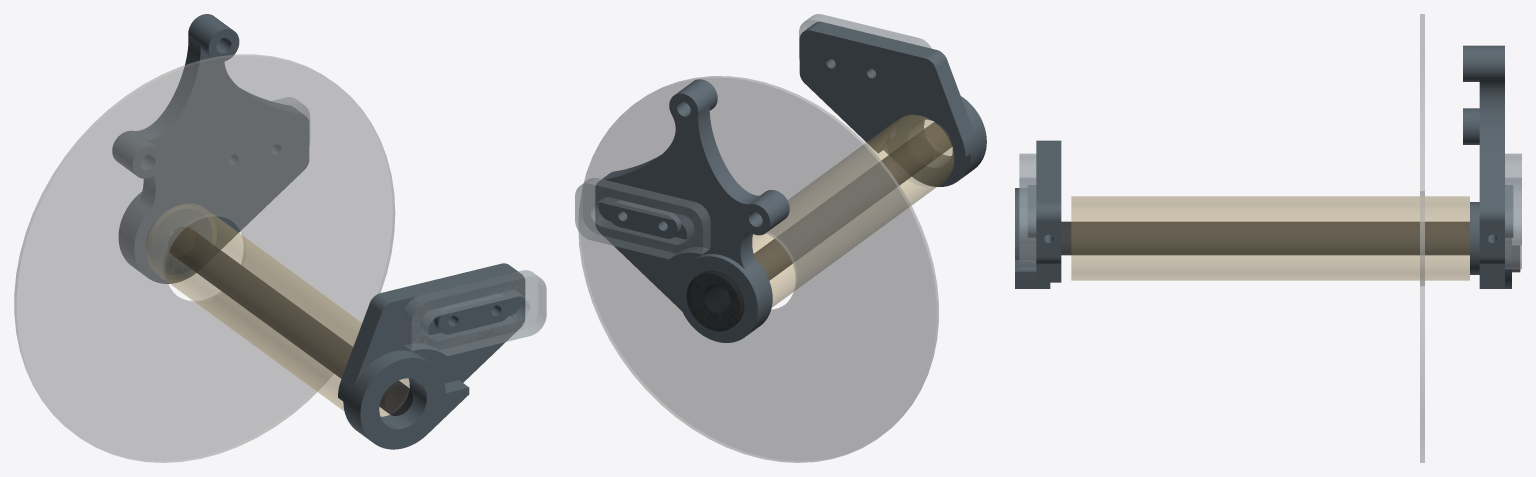
The model's file is assembly.glb.
3 views of the same model, side by side, from view 1: azimuth 30°, elevation 25°; view 2: azimuth 150°, elevation 25°; view 3: azimuth 270°, elevation 25° (orthographic). The views are drawn at different scales.
Parts seen in each view (by area): view 1: rotor, dropout_left, dropout_right, hub, thru_axle, frame_plate_right; view 2: rotor, dropout_left, dropout_right, hub, thru_axle, frame_plate_left, frame_plate_right; view 3: hub, thru_axle, dropout_left, dropout_right, rotor, frame_plate_right, frame_plate_left.
Boxes of the visible parts, x1=… form: rotor: x1=14, y1=54, x2=395, y2=462; dropout_left: x1=112, y1=14, x2=309, y2=283; dropout_right: x1=338, y1=263, x2=525, y2=449; hub: x1=146, y1=204, x2=409, y2=416; thru_axle: x1=168, y1=226, x2=412, y2=415; frame_plate_right: x1=403, y1=270, x2=546, y2=355; rotor: x1=578, y1=76, x2=938, y2=462; dropout_left: x1=595, y1=79, x2=789, y2=342; dropout_right: x1=799, y1=21, x2=986, y2=186; hub: x1=752, y1=114, x2=954, y2=307; thru_axle: x1=686, y1=122, x2=952, y2=331; frame_plate_left: x1=575, y1=178, x2=710, y2=259; frame_plate_right: x1=799, y1=14, x2=931, y2=59; hub: x1=1071, y1=196, x2=1469, y2=280; thru_axle: x1=1061, y1=221, x2=1520, y2=272; dropout_left: x1=1463, y1=45, x2=1512, y2=288; dropout_right: x1=1015, y1=140, x2=1061, y2=288; rotor: x1=1420, y1=14, x2=1424, y2=462; frame_plate_right: x1=1019, y1=153, x2=1036, y2=269; frame_plate_left: x1=1505, y1=153, x2=1521, y2=269.
Size of the model in its own units: 160 by 163 by 181.
